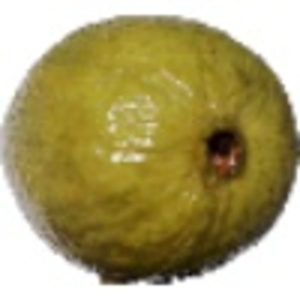goiaba: (6, 10, 295, 273)
